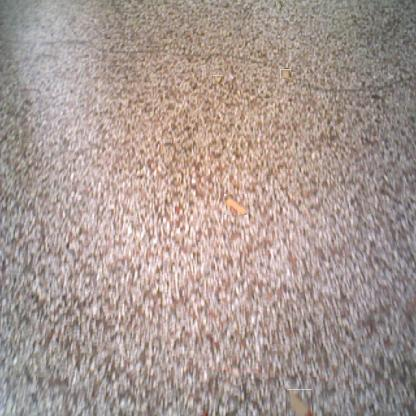dirty: (286, 389, 312, 416), (223, 193, 247, 215), (274, 0, 284, 10), (280, 69, 290, 78), (214, 75, 223, 84)
